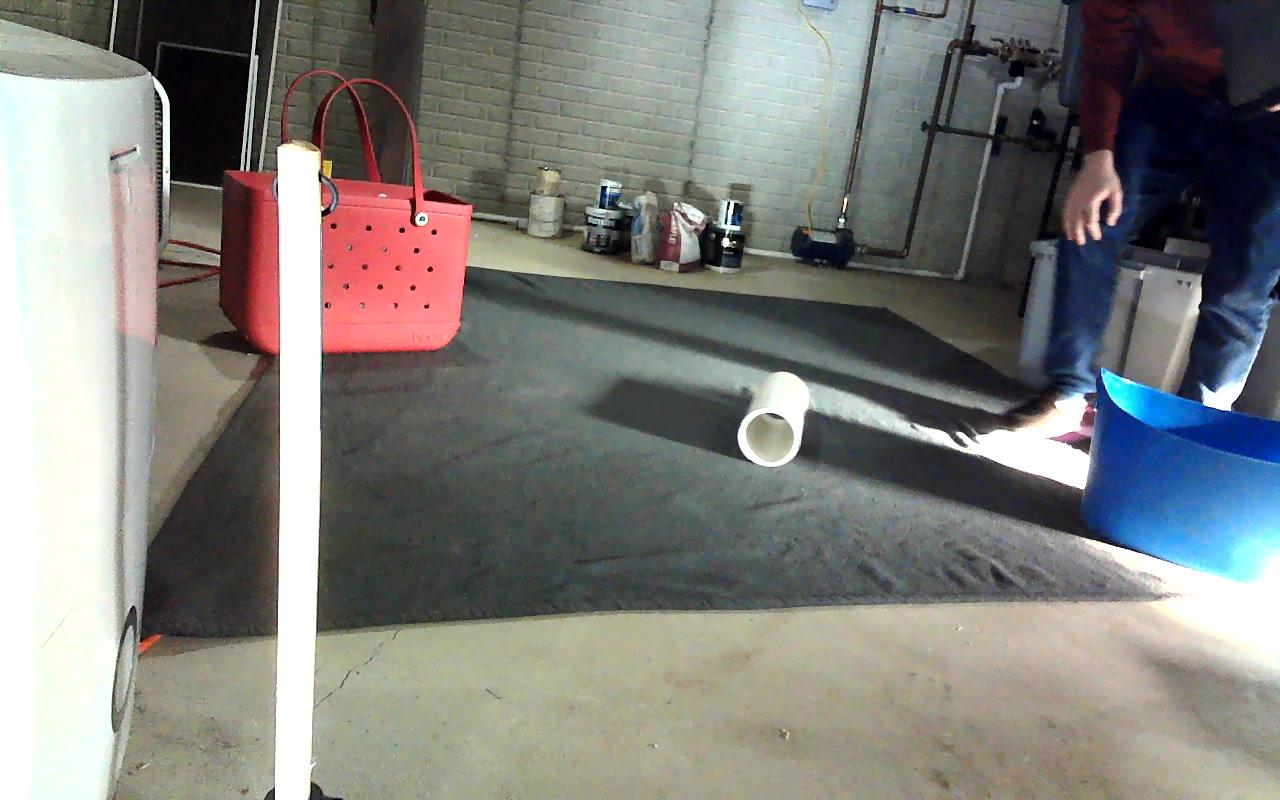coral: (737, 374, 811, 467)
